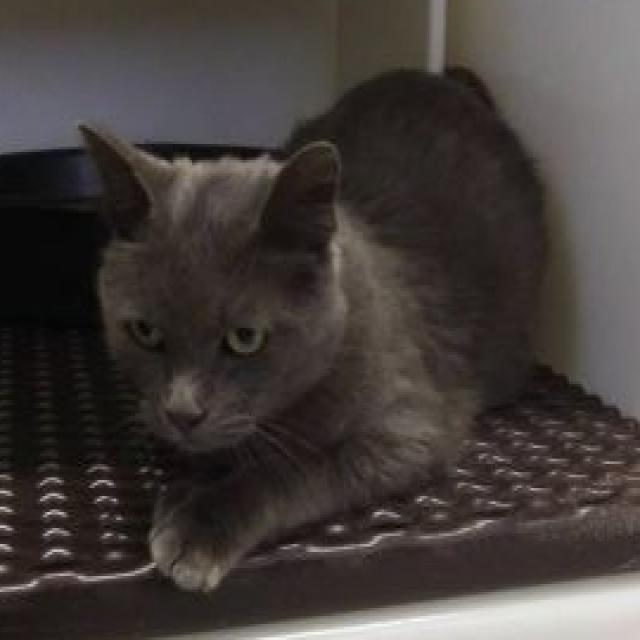Russian Blue: (73, 59, 552, 600)
